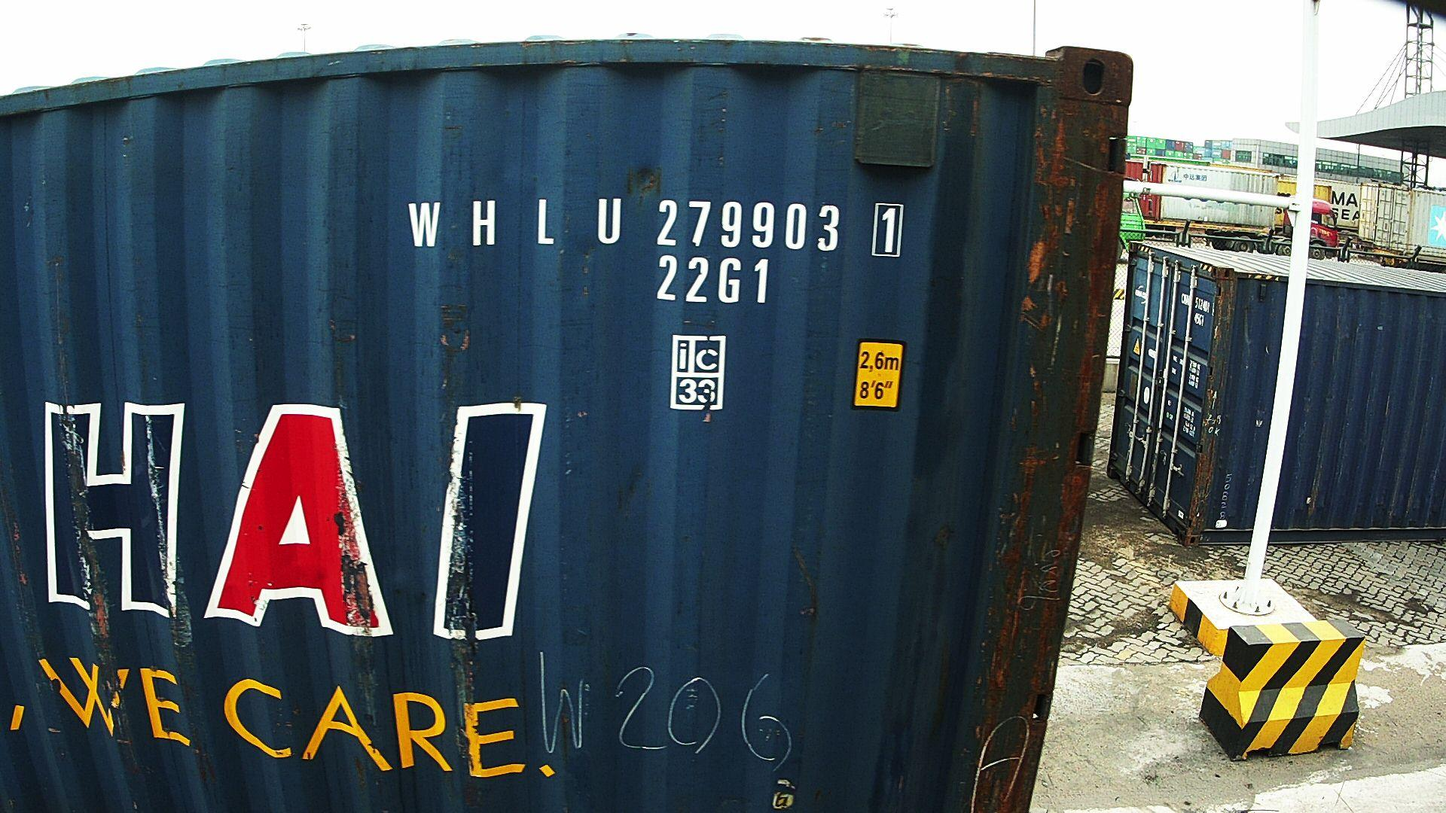container-numbers: (403, 192, 910, 261), (650, 254, 776, 309)
